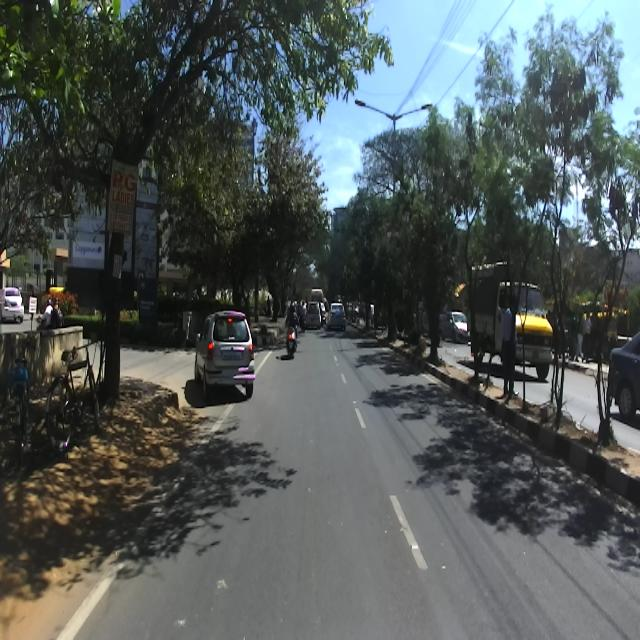bicycle ahead at: (42, 333, 106, 452)
car ahead at: (193, 303, 261, 404)
tree ahead at: (29, 6, 174, 442)
